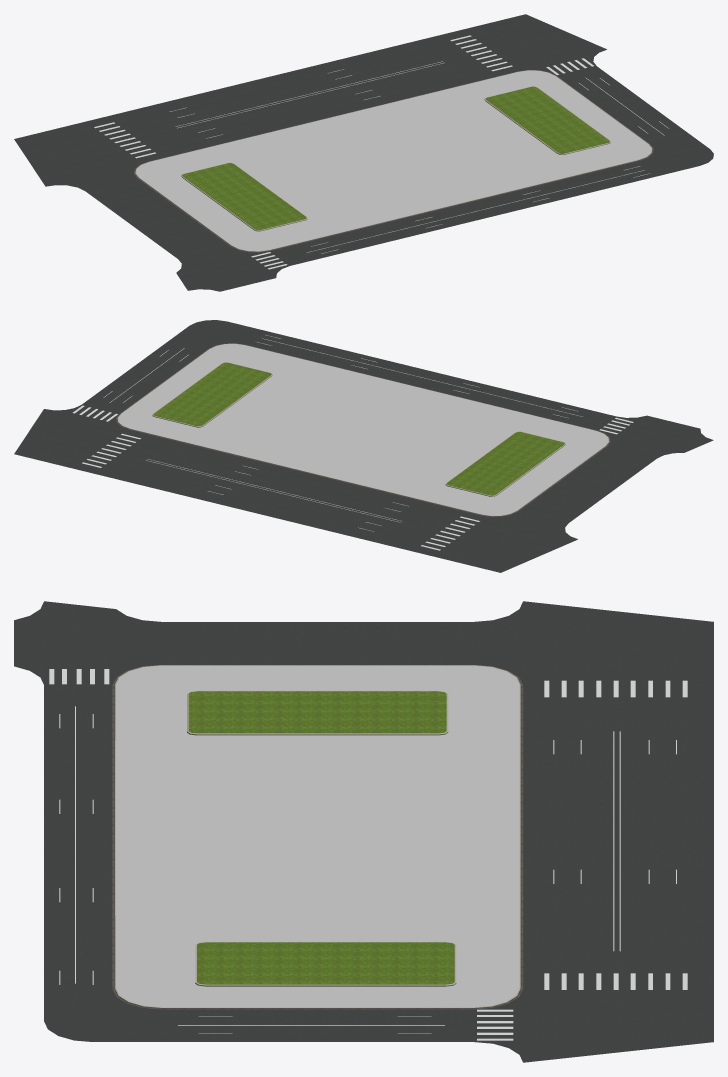
File: Terrain_Area_03.fbx
The picture shows the model from 3 angles, top to bottom: view 1: azimuth 30°, elevation 25°; view 2: azimuth 150°, elevation 25°; view 3: azimuth 270°, elevation 25°; orthographic projection. The views are drawn at different scales.
Visible parts, largest first — view 1: Road_01, Area_03, Road_Alpha_03, Road_Alpha_16; view 2: Road_01, Area_03, Road_Alpha_03, Road_Alpha_16; view 3: Road_01, Area_03, Road_Alpha_03, Road_Alpha_17, Road_Alpha_16.
Boxes of the visible parts, box(x1,y1,x2,y2) form: Road_01: box(14, 14, 713, 291); Area_03: box(134, 70, 653, 252); Road_Alpha_03: box(94, 35, 512, 158); Road_Alpha_16: box(251, 166, 650, 269); Road_01: box(14, 320, 713, 572); Area_03: box(116, 343, 610, 516); Road_Alpha_03: box(82, 433, 479, 550); Road_Alpha_16: box(257, 335, 633, 434); Road_01: box(14, 601, 713, 1062); Area_03: box(112, 665, 523, 1009); Road_Alpha_03: box(544, 680, 687, 989); Road_Alpha_17: box(178, 1009, 513, 1040); Road_Alpha_16: box(49, 669, 109, 984).
Size of the model in its own units: 11279 by 21.84 by 7229.
